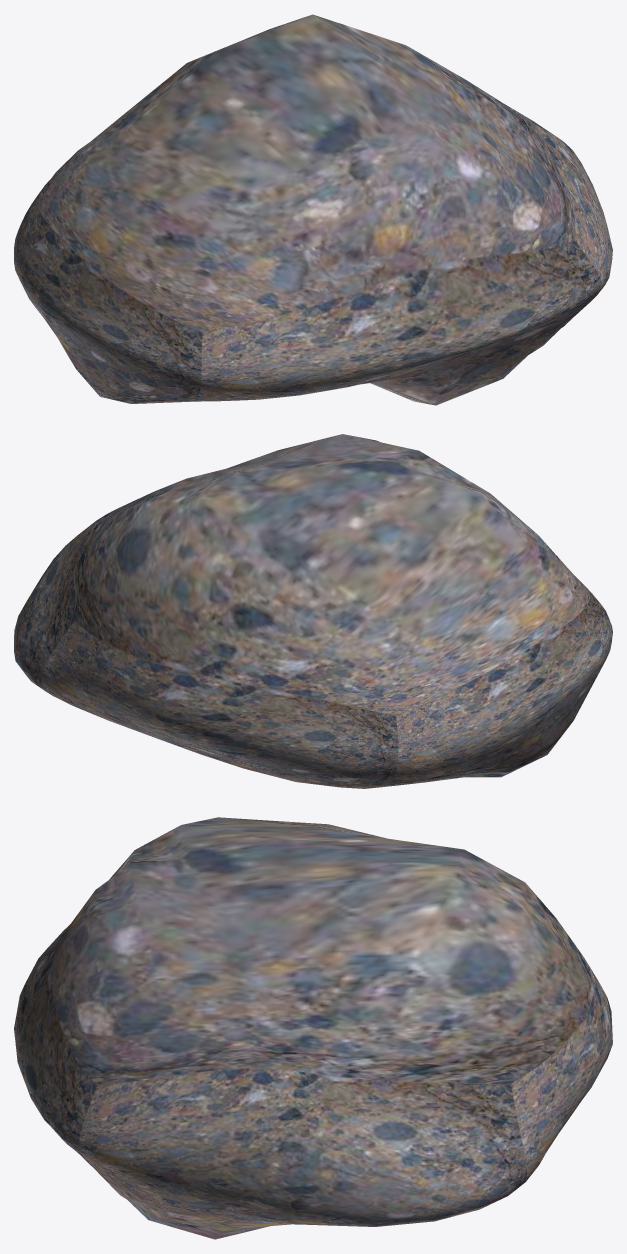
The picture shows the model from 3 angles, top to bottom: view 1: azimuth 30°, elevation 25°; view 2: azimuth 150°, elevation 25°; view 3: azimuth 270°, elevation 25°; orthographic projection. The views are drawn at different scales.
Parts seen in each view (by area): view 1: pudinga; view 2: pudinga; view 3: pudinga.
Part boxes in pixels (bbox=[...]): pudinga: bbox=[14, 14, 612, 405]; pudinga: bbox=[14, 434, 612, 788]; pudinga: bbox=[14, 817, 612, 1239].
Size of the model in its own units: 28.93 by 16.24 by 25.12.
Materials: 1 (1 with a texture image).
